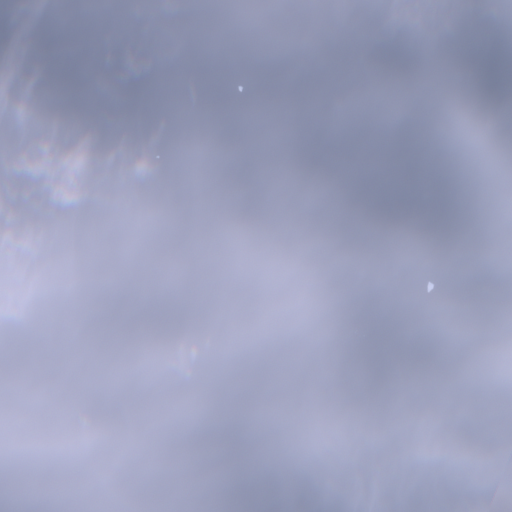Iceberg: (427, 282, 433, 291), (238, 86, 242, 91), (156, 156, 158, 157)
